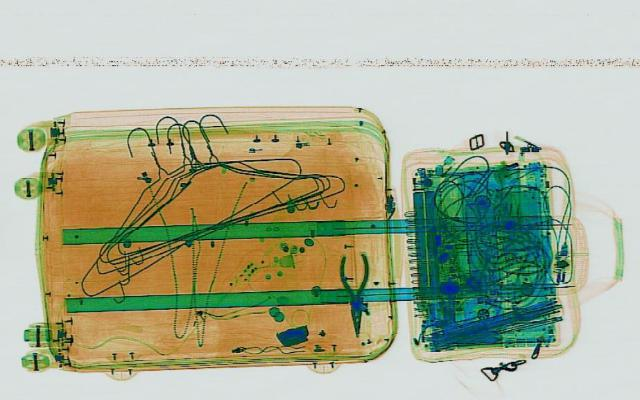Pliers: (336, 251, 374, 336)
